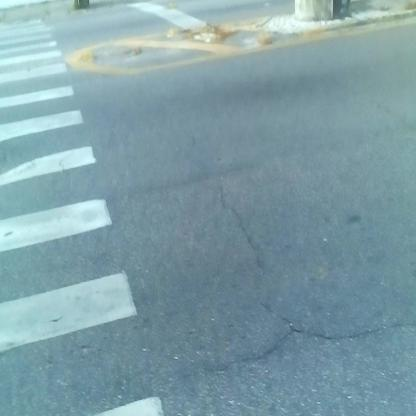crosswalk: (1, 10, 168, 406)
